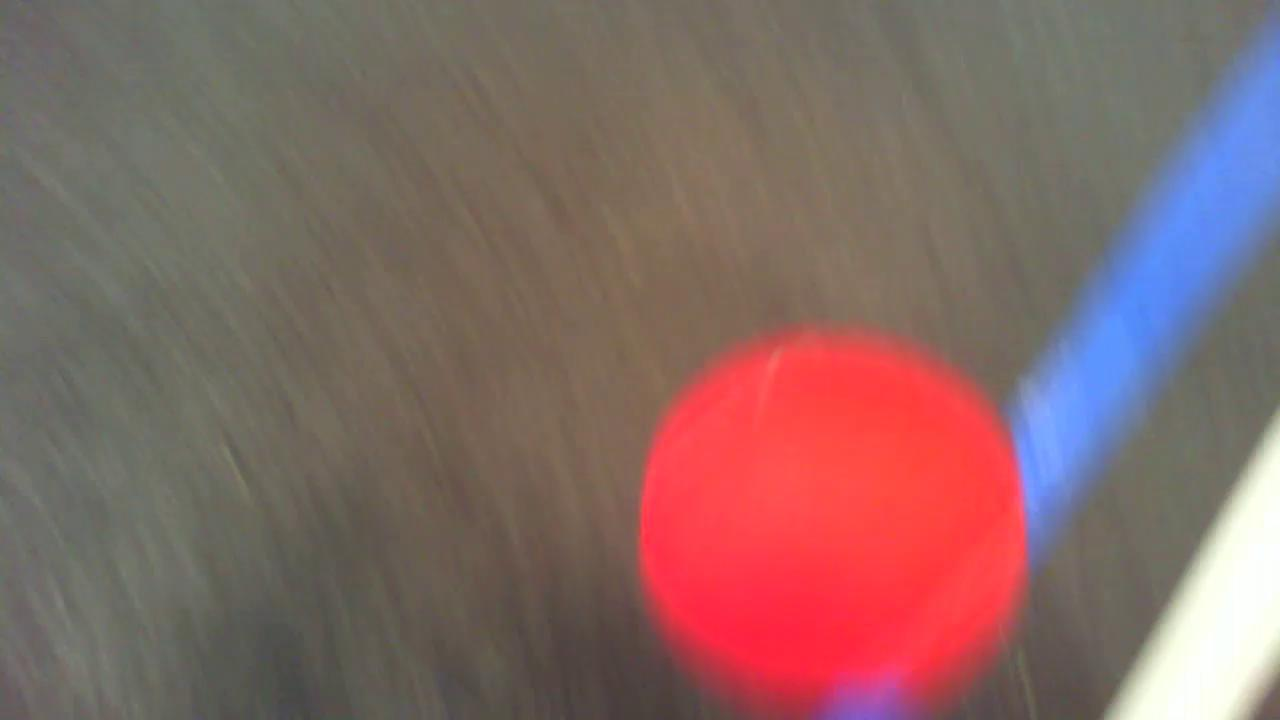Red_Ball: (623, 320, 1026, 717)
